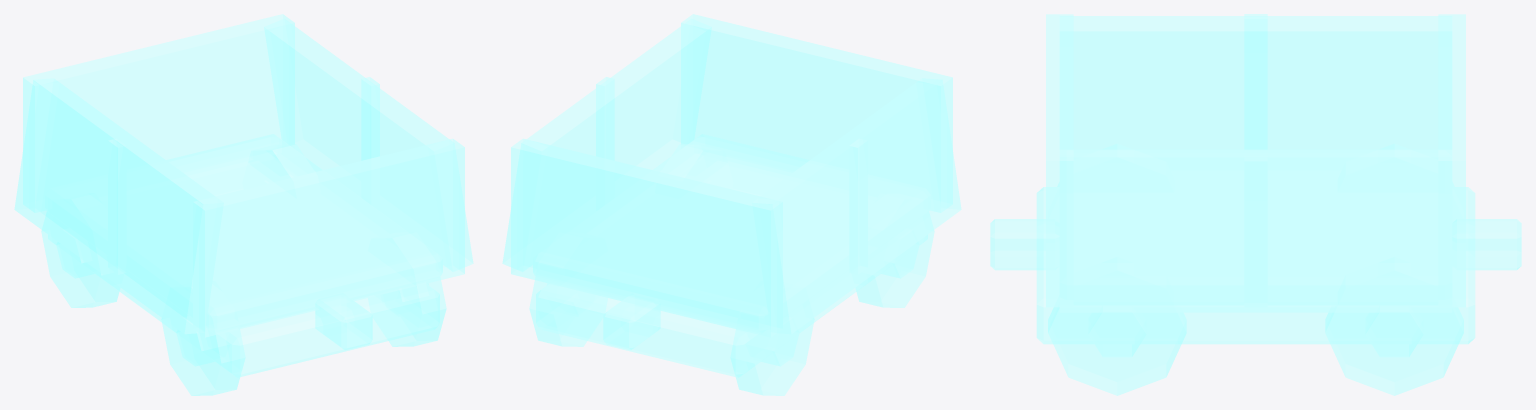
Rendered from GH_Vehicle_OreWagon.fbx.
3 renders of one model, left to right at view 1: azimuth 30°, elevation 25°; view 2: azimuth 150°, elevation 25°; view 3: azimuth 270°, elevation 25°, orthographic. The views are drawn at different scales.
Parts seen in each view (by area): view 1: SM_Vehicle_OreWagon; view 2: SM_Vehicle_OreWagon; view 3: SM_Vehicle_OreWagon.
Boxes of the visible parts, x1=… form: SM_Vehicle_OreWagon: x1=14, y1=14, x2=473, y2=395; SM_Vehicle_OreWagon: x1=502, y1=14, x2=961, y2=395; SM_Vehicle_OreWagon: x1=990, y1=14, x2=1521, y2=395.
Size of the model in its own units: 1.67 by 1.18 by 2.3.
